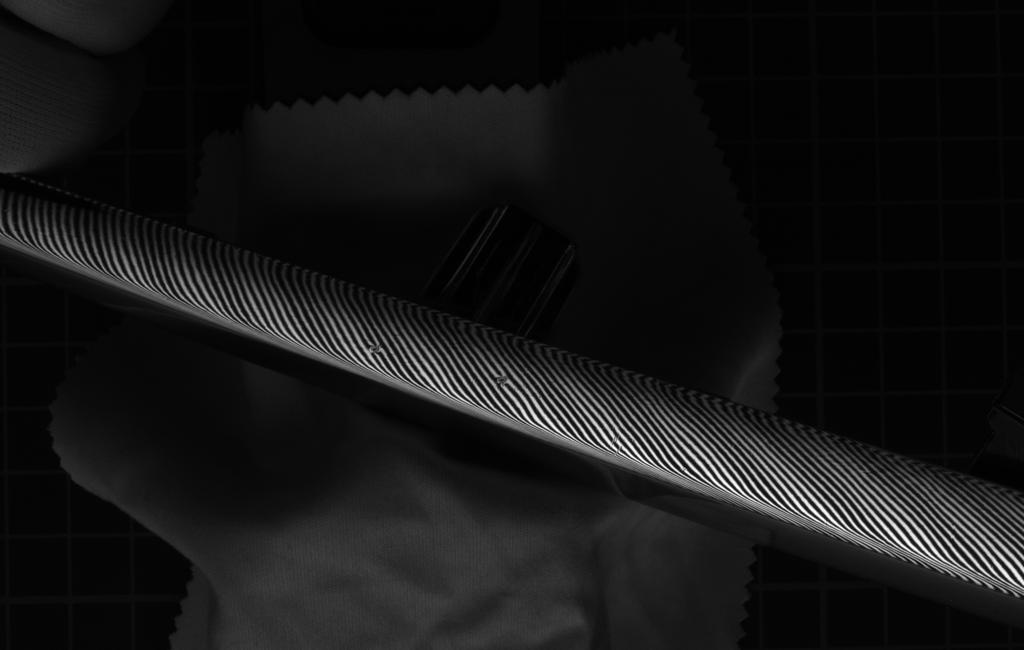Pierced: (364, 340, 389, 358), (492, 372, 514, 391)
